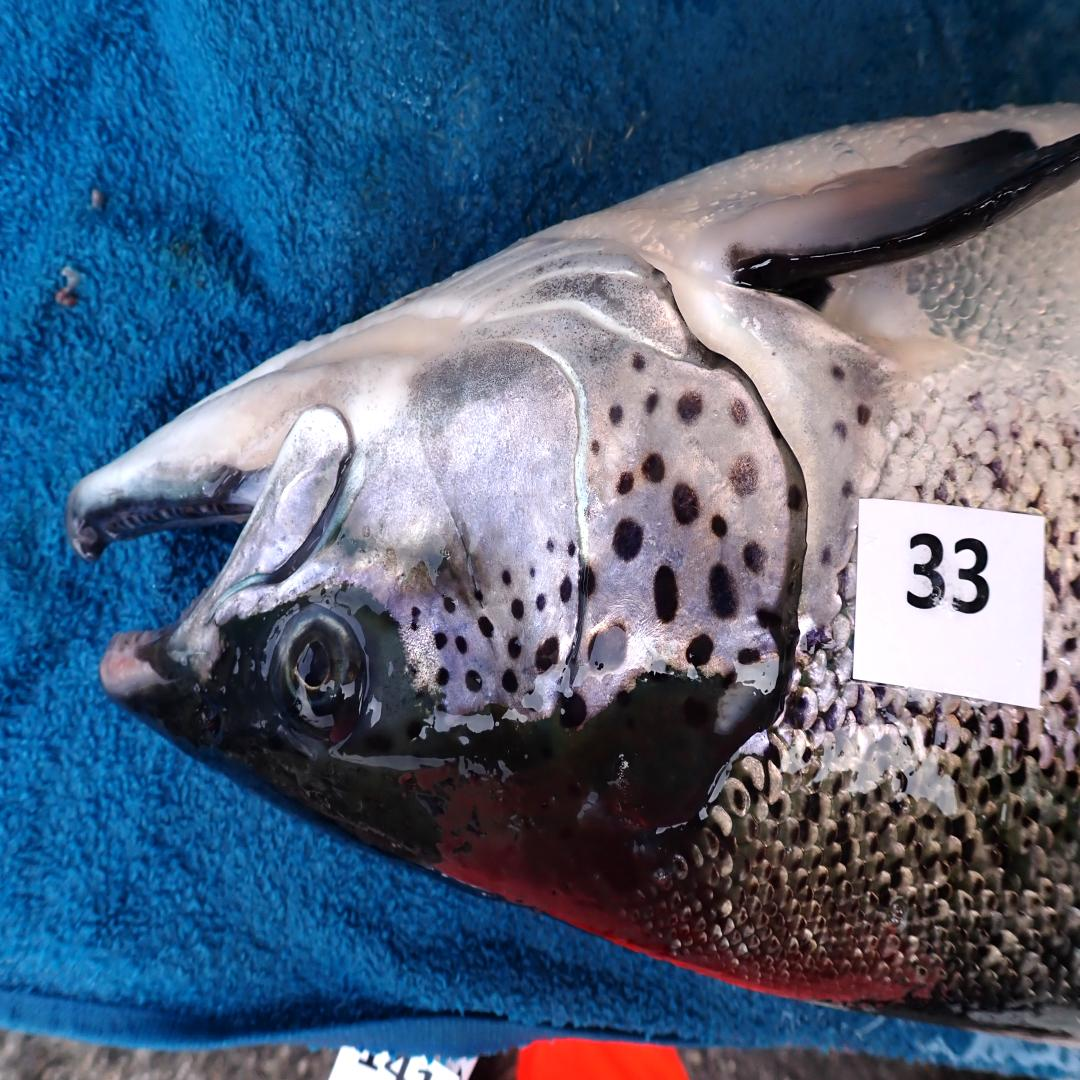roi: (347, 236, 807, 715)
